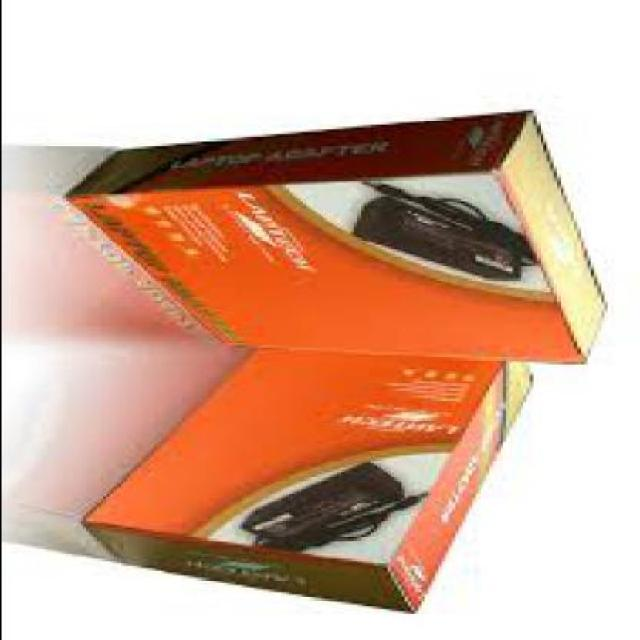CARDBOARD: (68, 106, 609, 362), (84, 350, 538, 612)
